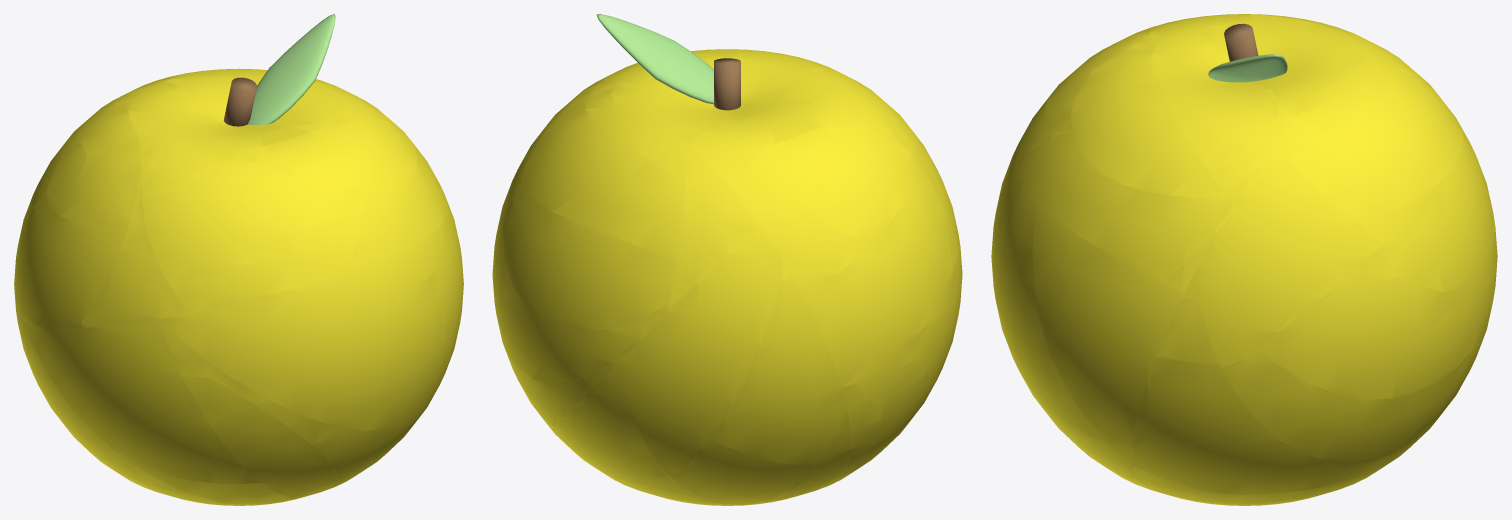
File: apple_c1.glb
3 views of the same model, side by side, from view 1: azimuth 30°, elevation 25°; view 2: azimuth 150°, elevation 25°; view 3: azimuth 270°, elevation 25° (orthographic). The views are drawn at different scales.
Visible parts, largest first — view 1: AppleWax_28, AppleWax_35, AppleWax_17, AppleWax_27, AppleWax_32, AppleWax_22, AppleWax_38, AppleWax_12, AppleWax_18, AppleWax_24, AppleWax_21, AppleWax_00 (+14 smaller); view 2: AppleWax_29, AppleWax_18, AppleWax_27, AppleWax_26, AppleWax_20, AppleWax_33, AppleWax_31, AppleWax_40, AppleWax_23, AppleWax_42, AppleWax_09, AppleLeaf (+19 smaller); view 3: AppleWax_25, AppleWax_31, AppleWax_30, AppleWax_37, AppleWax_20, AppleWax_21, AppleWax_36, AppleWax_12, AppleWax_26, AppleWax_32, AppleWax_04, AppleWax_08 (+17 smaller).
Part boxes in pixels (left/top/right/bottom): AppleWax_28: left=159, top=258, right=387, bottom=430; AppleWax_35: left=25, top=319, right=259, bottom=484; AppleWax_17: left=142, top=153, right=352, bottom=285; AppleWax_27: left=14, top=206, right=127, bottom=327; AppleWax_32: left=370, top=246, right=446, bottom=430; AppleWax_22: left=170, top=190, right=363, bottom=313; AppleWax_38: left=175, top=360, right=340, bottom=498; AppleWax_12: left=245, top=119, right=417, bottom=190; AppleWax_18: left=28, top=103, right=140, bottom=228; AppleWax_24: left=77, top=153, right=189, bottom=327; AppleWax_21: left=348, top=129, right=449, bottom=270; AppleWax_00: left=147, top=122, right=343, bottom=190; AppleWax_29: left=622, top=222, right=785, bottom=477; AppleWax_18: left=731, top=125, right=917, bottom=296; AppleWax_27: left=803, top=162, right=951, bottom=388; AppleWax_26: left=503, top=200, right=678, bottom=331; AppleWax_20: left=514, top=102, right=685, bottom=263; AppleWax_33: left=710, top=266, right=847, bottom=465; AppleWax_31: left=492, top=200, right=669, bottom=382; AppleWax_40: left=551, top=359, right=664, bottom=483; AppleWax_23: left=667, top=136, right=756, bottom=313; AppleWax_42: left=672, top=438, right=815, bottom=505; AppleWax_09: left=687, top=105, right=858, bottom=187; AppleLeaf: left=597, top=14, right=713, bottom=104; AppleWax_25: left=1196, top=147, right=1383, bottom=370; AppleWax_31: left=1257, top=200, right=1497, bottom=398; AppleWax_30: left=1032, top=202, right=1184, bottom=446; AppleWax_37: left=1131, top=356, right=1399, bottom=495; AppleWax_20: left=1288, top=74, right=1463, bottom=243; AppleWax_21: left=1016, top=127, right=1232, bottom=282; AppleWax_36: left=1223, top=262, right=1497, bottom=461; AppleWax_12: left=1070, top=44, right=1224, bottom=196; AppleWax_26: left=1368, top=128, right=1494, bottom=291; AppleWax_32: left=996, top=183, right=1106, bottom=440; AppleWax_04: left=1168, top=83, right=1274, bottom=167; AppleWax_08: left=1273, top=62, right=1413, bottom=160.
Size of the model in its own units: 2.06 by 2.15 by 2.06.
